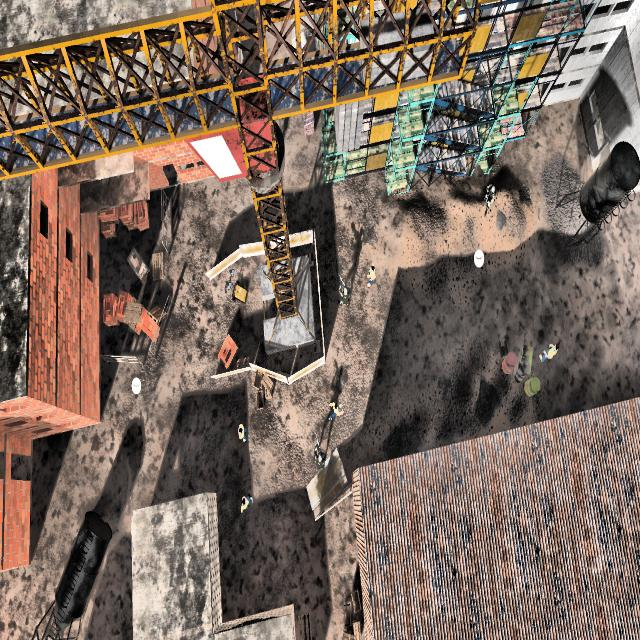bad: (332, 270, 354, 313), (308, 435, 330, 476), (481, 180, 497, 215)
good: (360, 252, 381, 295), (326, 386, 347, 427), (536, 338, 560, 366), (234, 416, 248, 451), (238, 492, 255, 514)
